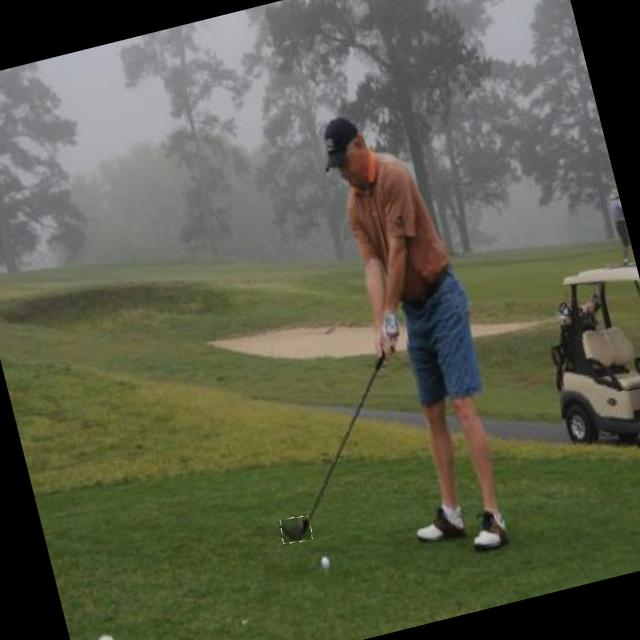club head: (278, 513, 313, 545)
